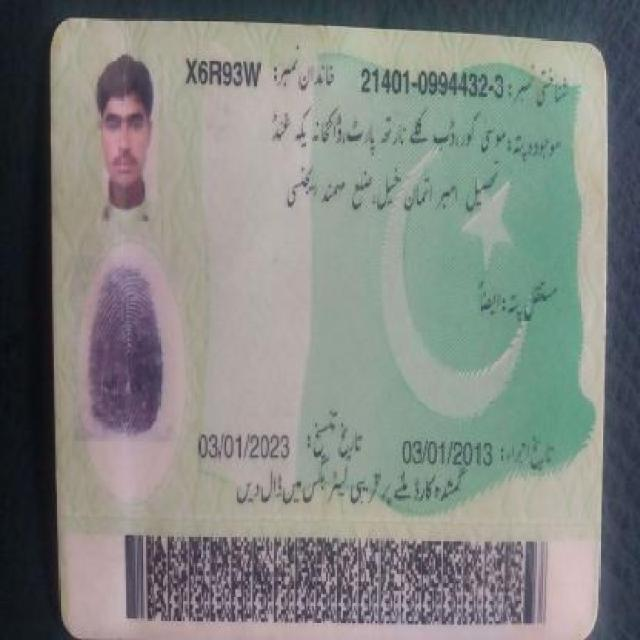Back: (40, 15, 605, 632)
